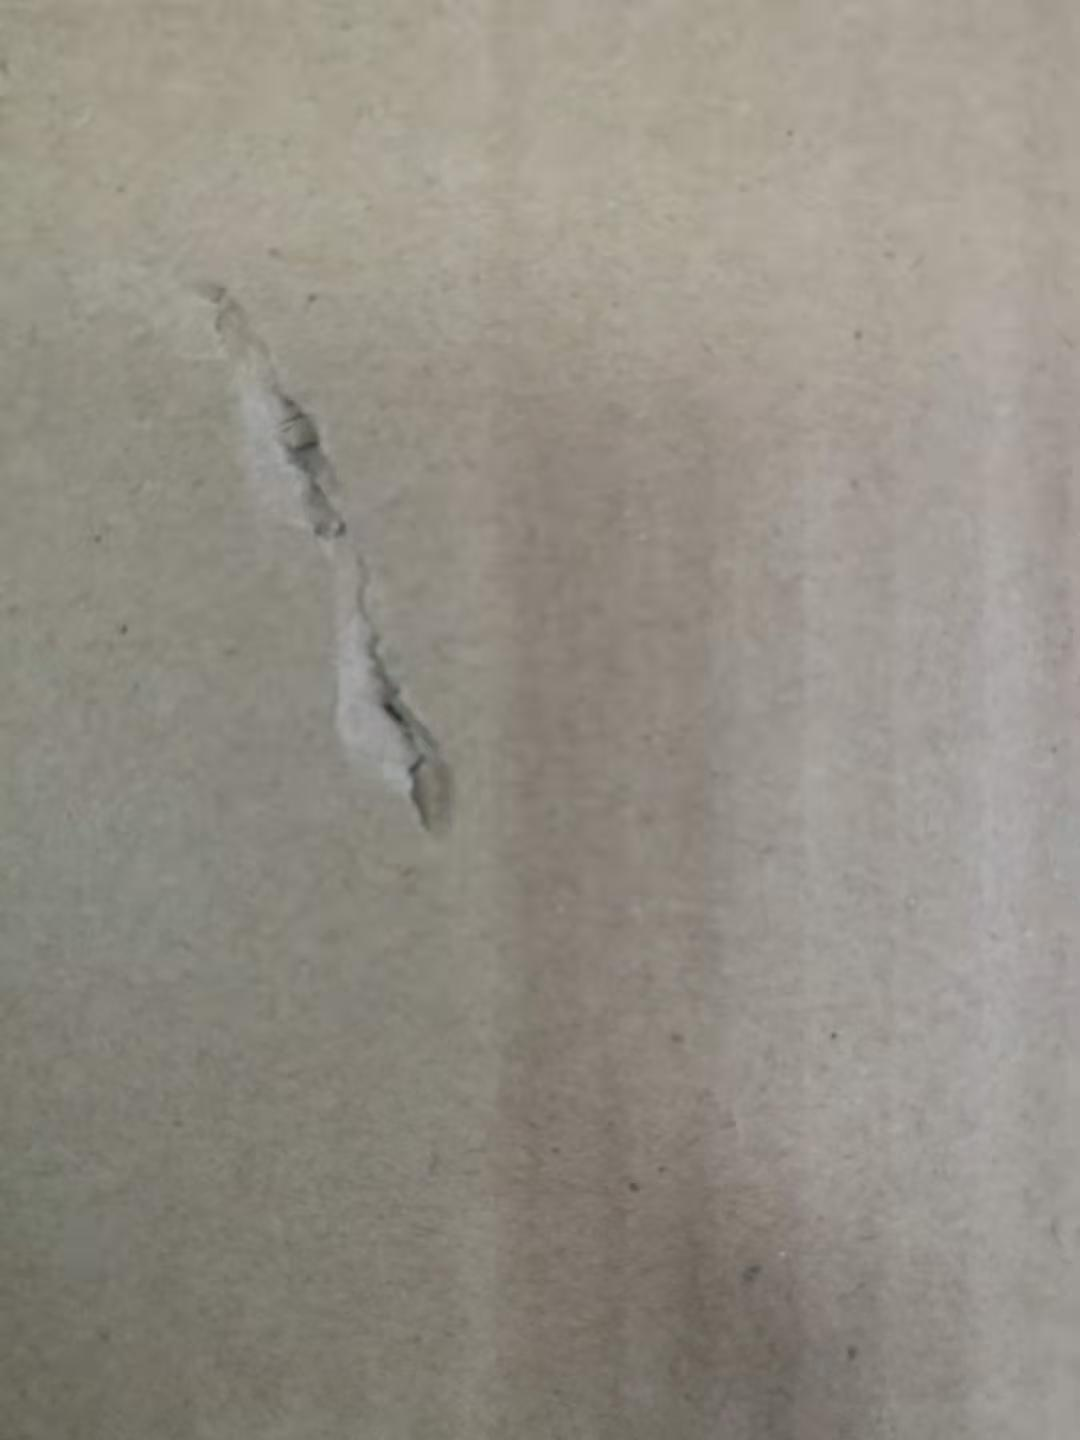defect: (134, 252, 517, 853)
